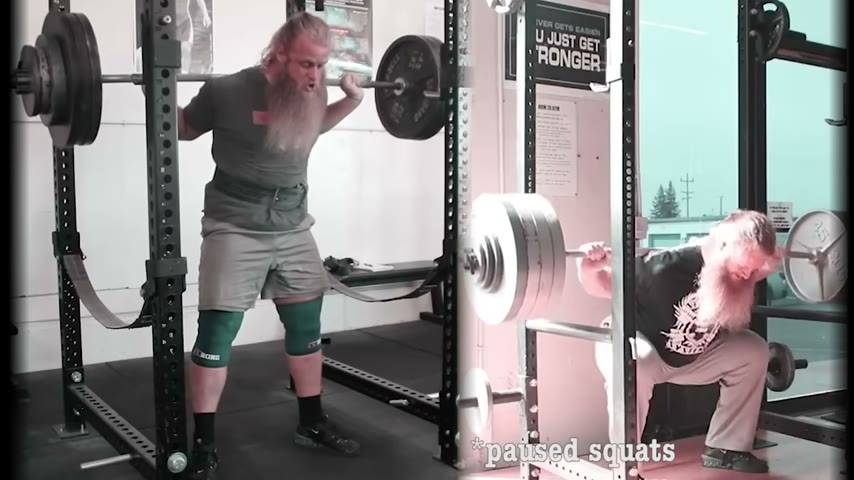barbell_plate_side: (2, 3, 108, 155), (381, 30, 469, 149)
